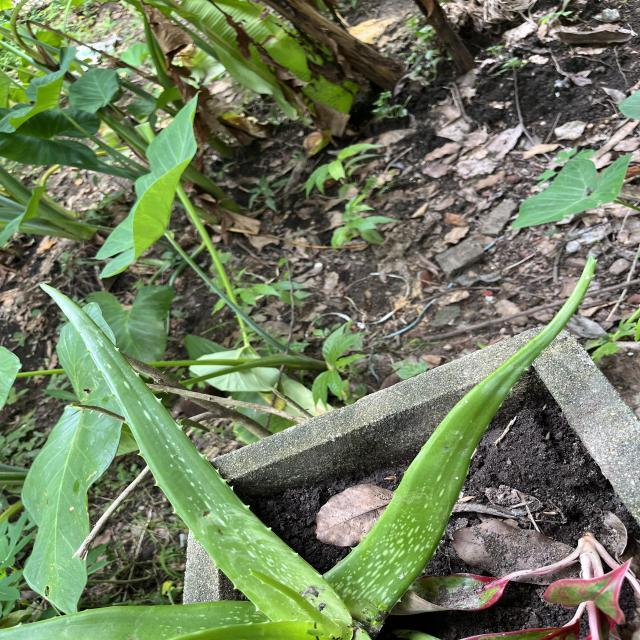Aloe vera: (37, 278, 360, 633), (324, 248, 604, 632)
